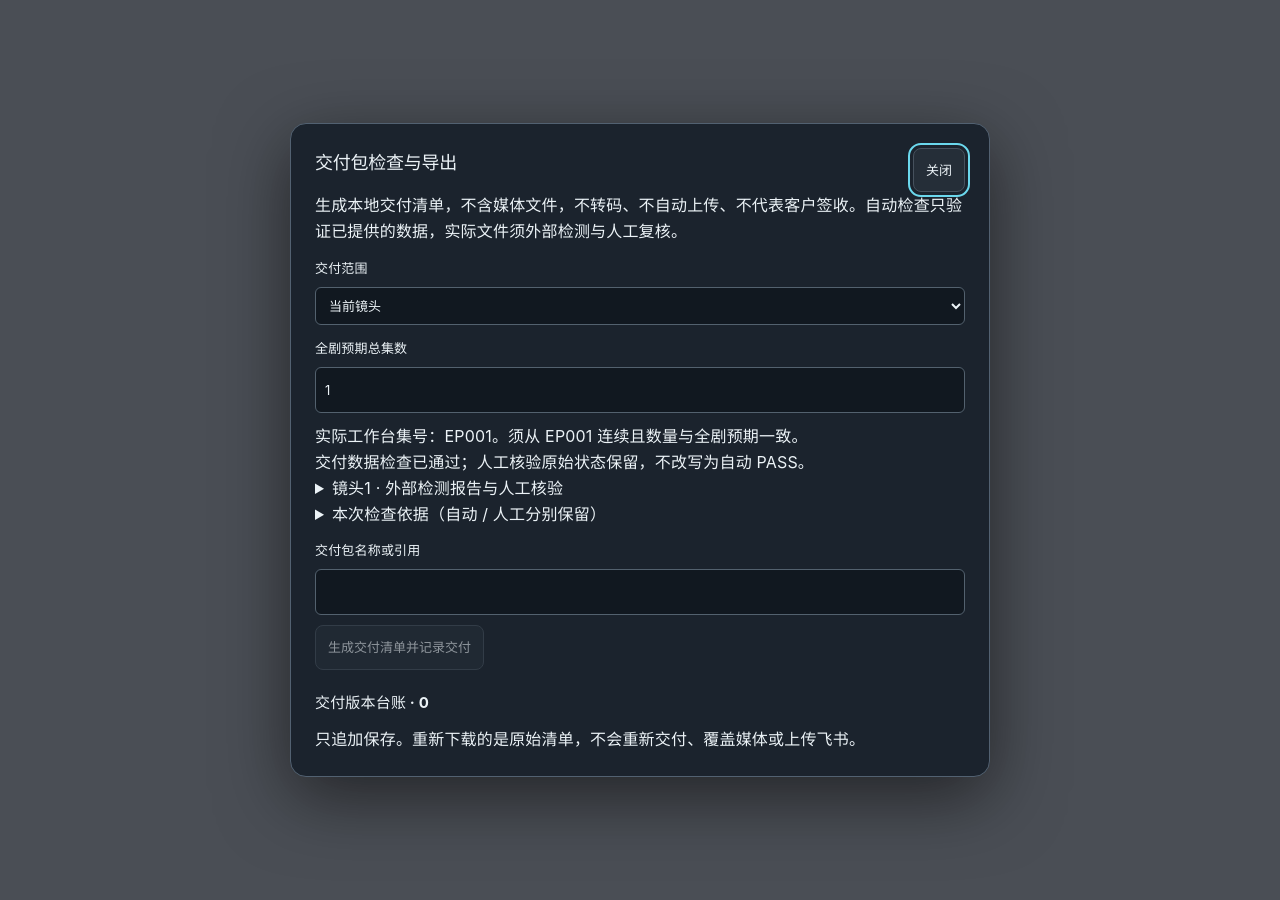
it: 全部通过后提交整集范围和总集数，保存失败保留面板并报中文原因
Select "当前整集（包含所有镜头）" in the dropdown labelled "交付范围" at (640, 306), box [315, 287, 965, 325]
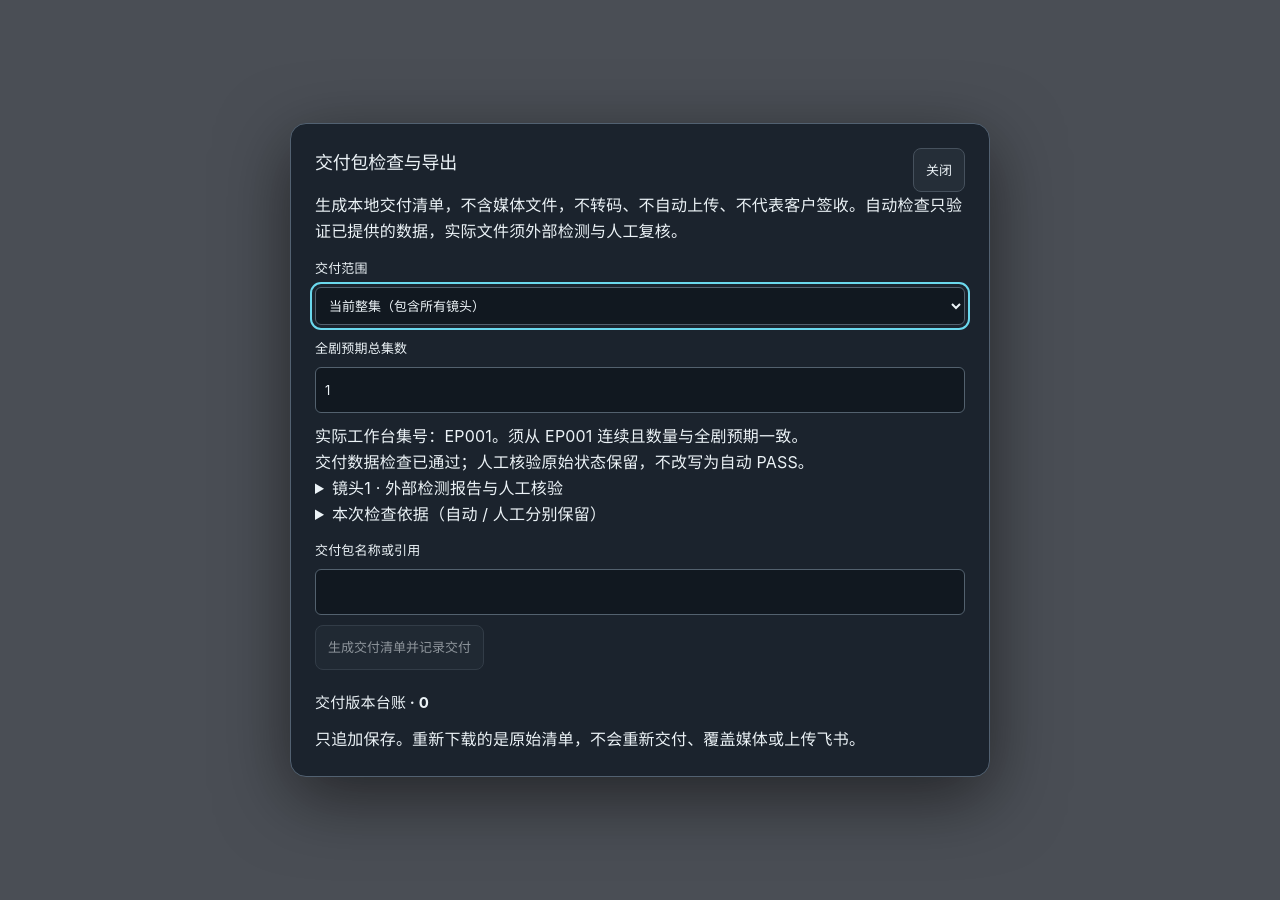
Type "EP001-final" into the field labelled "交付包名称或引用".
click(640, 592); type("EP001-final")  # box [315, 569, 965, 615]
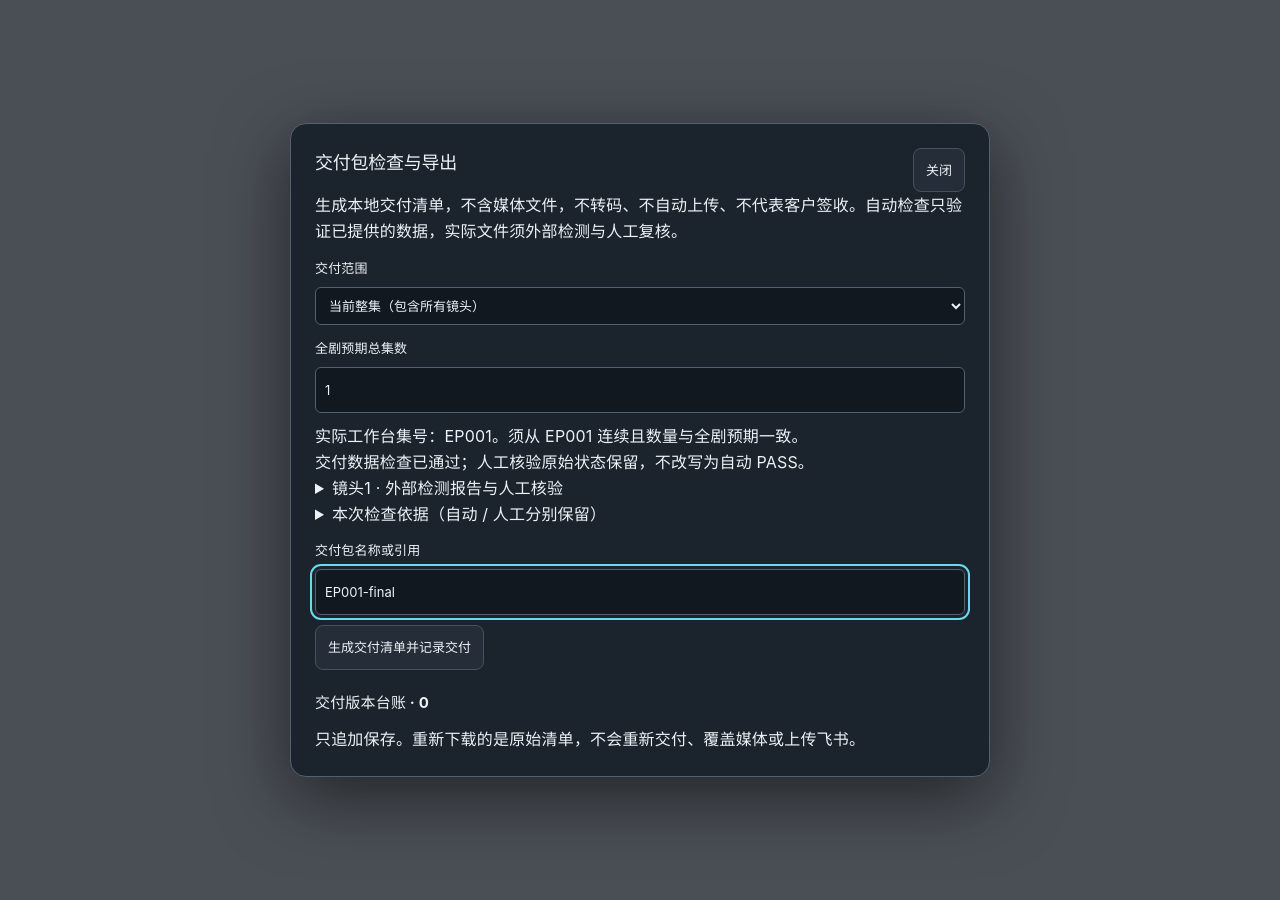
Click the button "生成交付清单并记录交付".
click(400, 647)  # box [315, 625, 484, 670]
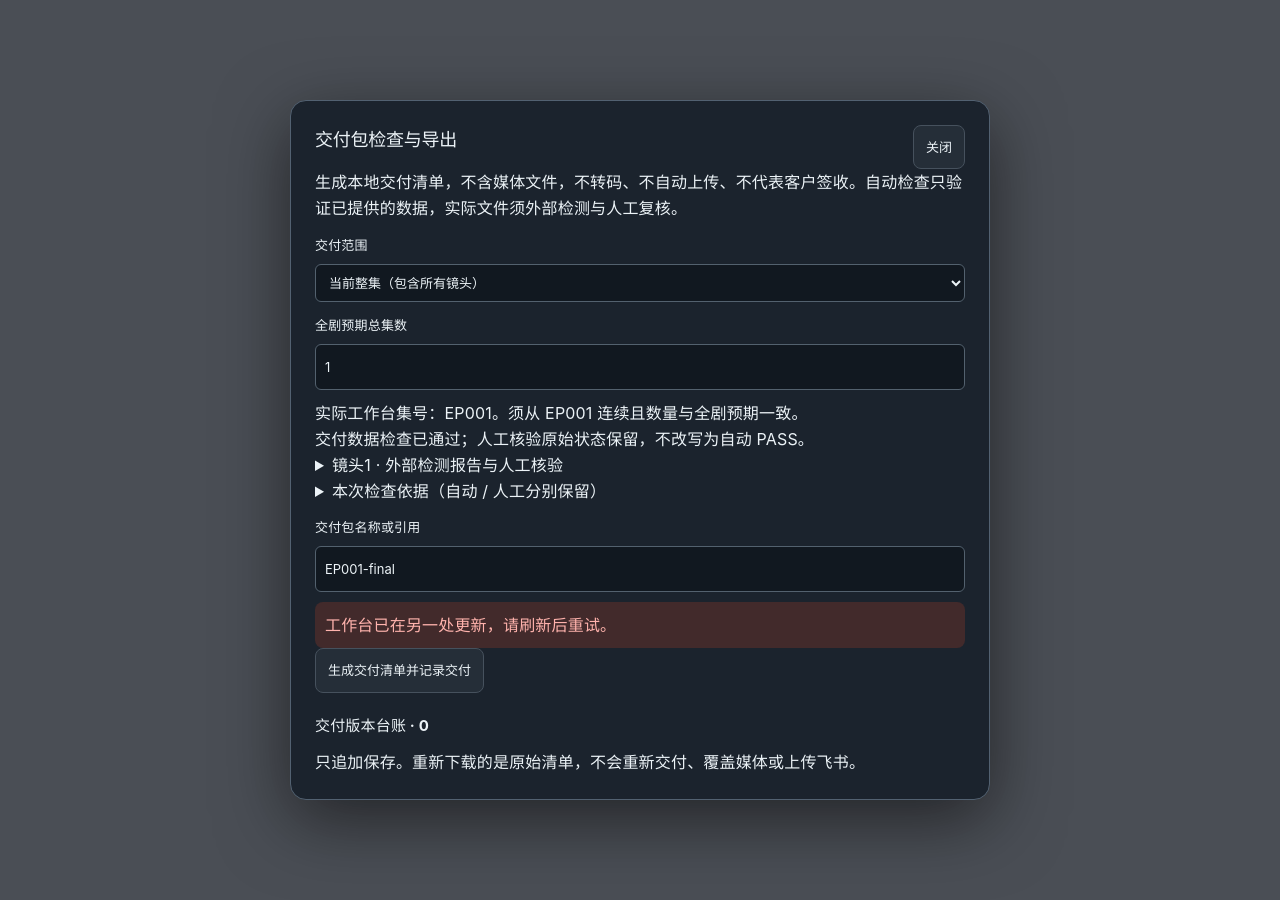
Check: the text "不含媒体文件" is shown, box [315, 172, 962, 218]
Check: the message "工作台已在另一处更新，请刷新后重试。" is shown, box [315, 602, 965, 648]
